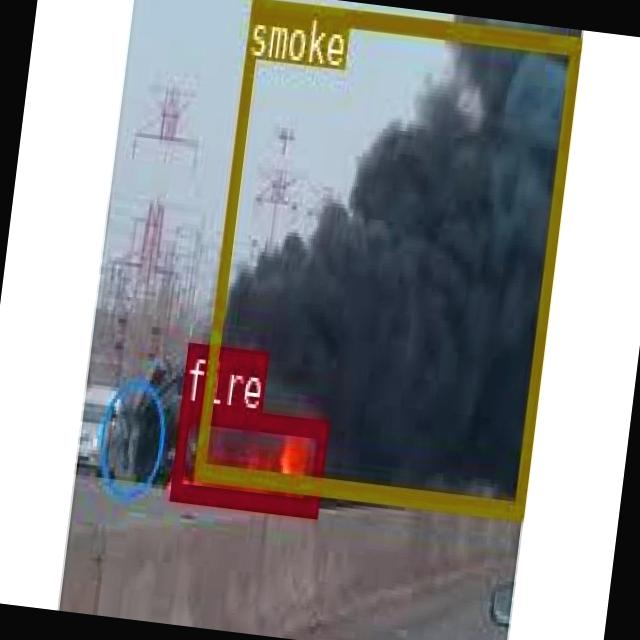fire: (168, 401, 326, 511)
smoke: (192, 0, 579, 514)
